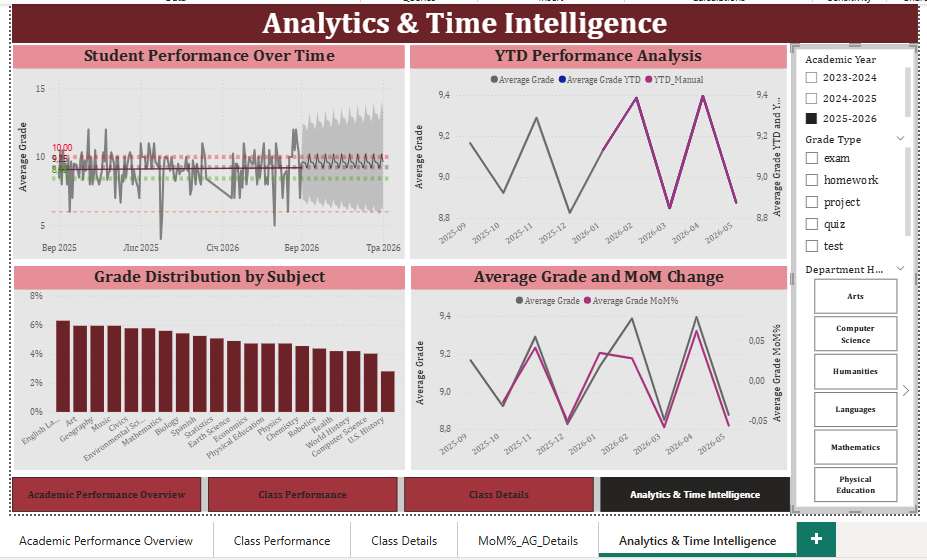

What the dashboard file says about the page in this screenshot:
{"tool":"powerbi","page":{"name":" Analytics & Time Intelligence","canvas":[1280,720],"ordinal":4},"visuals":[{"type":"shape","box":[1100.7,56.5,179.3,663.5],"z":0,"group":"g3"},{"type":"lineChart","title":"Student Performance Over Time","fields":{"Category":["Calendar Test.Date"],"Y":["_Measures.Average Grade"]},"box":[2.8,57.9,553.4,302.1],"z":0},{"type":"slicer","fields":{"Values":["periods.academic_year"]},"box":[1108.2,63.6,166.6,112.9],"z":0,"group":"g2"},{"type":"group","id":"g1","title":"Group 1","box":[1108,63.6,166.8,647.3],"z":1000,"group":"g3"},{"type":"slicer","fields":{"Values":["subjects.department_hint"]},"box":[1108,360.7,166.6,350.1],"z":1000,"group":"g2"},{"type":"columnChart","title":"Grade Distribution by Subject","fields":{"Category":["subjects.subject_name"],"Y":["Sum(grades.grade_id)"]},"box":[4.2,369.9,552,288],"z":1000},{"type":"lineChart","title":"YTD Performance Analysis","fields":{"Y":["_Measures.Average Grade"],"Y2":["Calendar Test.Average Grade YTD","Calendar Test.YTD_Manual"],"Category":["Calendar Test.Year-Month"]},"box":[563.3,57.9,532.2,302.1],"z":2000},{"type":"slicer","fields":{"Values":["grades.grade_type"]},"box":[1108,177.2,166.6,183.5],"z":2000,"group":"g2"},{"type":"lineChart","title":"Average Grade and MoM Change","fields":{"Category":["Calendar Test.Year-Month"],"Y":["_Measures.Average Grade"],"Y2":["Calendar Test.Average Grade MoM%"]},"box":[564.7,369.9,530.8,288],"z":3000},{"type":"group","id":"g2","title":"Group 3","box":[1108,63.6,166.8,647.3],"z":3005,"group":"g4"},{"type":"textbox","title":"Analytics & Time Intelligence","box":[0.9,0,1279.1,57.9],"z":4000},{"type":"pageNavigator","box":[1.4,667.8,1101.2,49.4],"z":5000},{"type":"group","id":"g3","title":"Group 4","box":[1100.7,56.5,179.3,663.5],"z":6000},{"type":"group","id":"g4","title":"Group 2","box":[1108,63.6,166.8,647.3],"z":6007,"group":"g1"}]}

Visuals, with their boxes on the page's 1280x720 design canvas (x1, y1, x2, y2). These are canvas units, not pixel positions in the 927x560 screenshot, which may show the page scaled, cropped or inside an application window:
shape: x1=1101, y1=56, x2=1280, y2=720
"Student Performance Over Time" lineChart: x1=3, y1=58, x2=556, y2=360
slicer - periods.academic_year: x1=1108, y1=64, x2=1275, y2=176
"Group 1" group: x1=1108, y1=64, x2=1275, y2=711
slicer - subjects.department_hint: x1=1108, y1=361, x2=1275, y2=711
"Grade Distribution by Subject" columnChart: x1=4, y1=370, x2=556, y2=658
"YTD Performance Analysis" lineChart: x1=563, y1=58, x2=1096, y2=360
slicer - grades.grade_type: x1=1108, y1=177, x2=1275, y2=361
"Average Grade and MoM Change" lineChart: x1=565, y1=370, x2=1096, y2=658
"Group 3" group: x1=1108, y1=64, x2=1275, y2=711
"Analytics & Time Intelligence" textbox: x1=1, y1=0, x2=1280, y2=58
pageNavigator: x1=1, y1=668, x2=1103, y2=717
"Group 4" group: x1=1101, y1=56, x2=1280, y2=720
"Group 2" group: x1=1108, y1=64, x2=1275, y2=711
